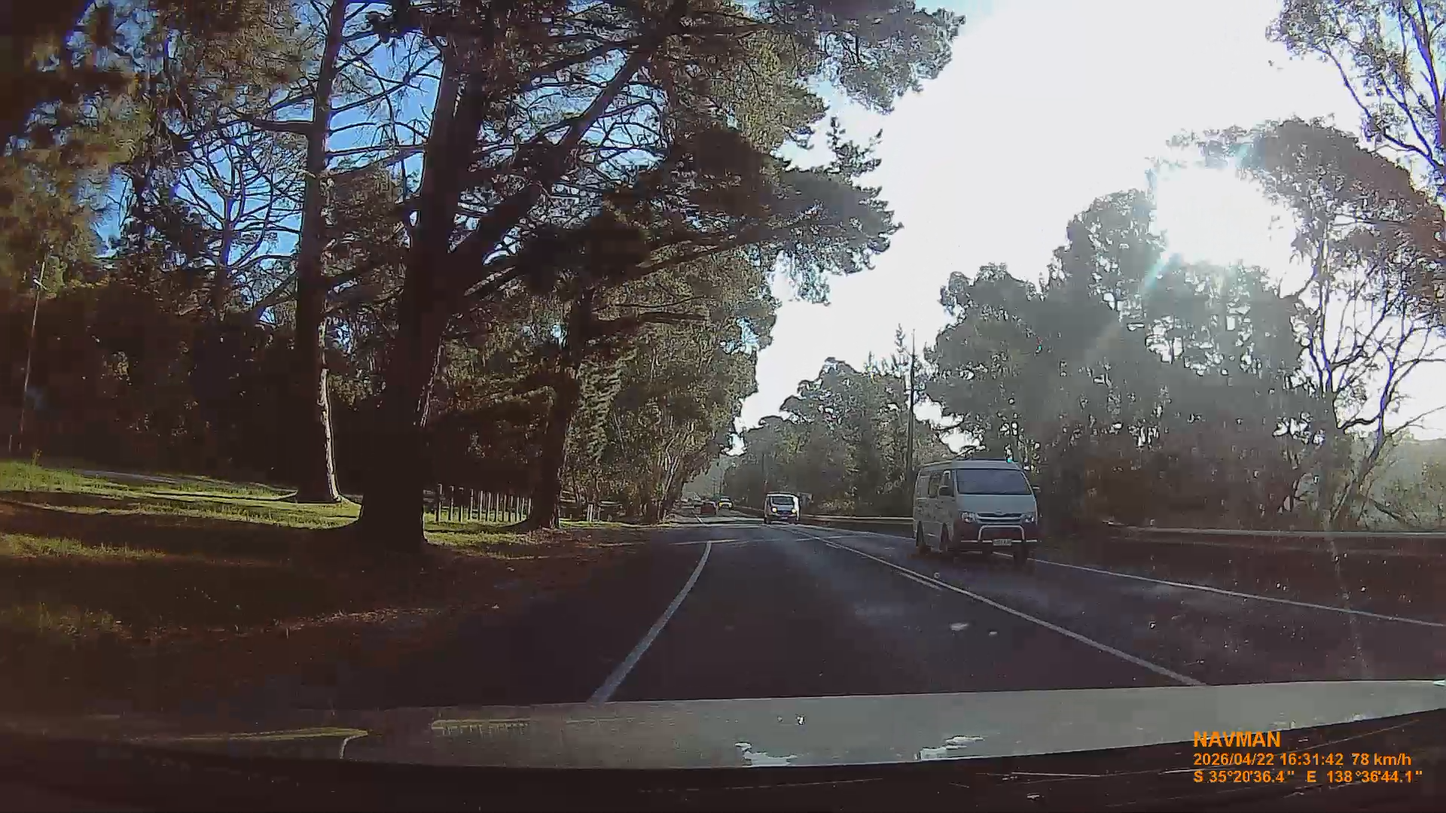road barriers: (1106, 525, 1445, 556), (810, 511, 905, 530)
